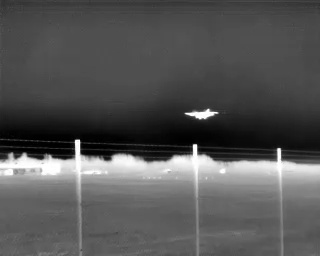AIRPLANE: (182, 106, 222, 122)
